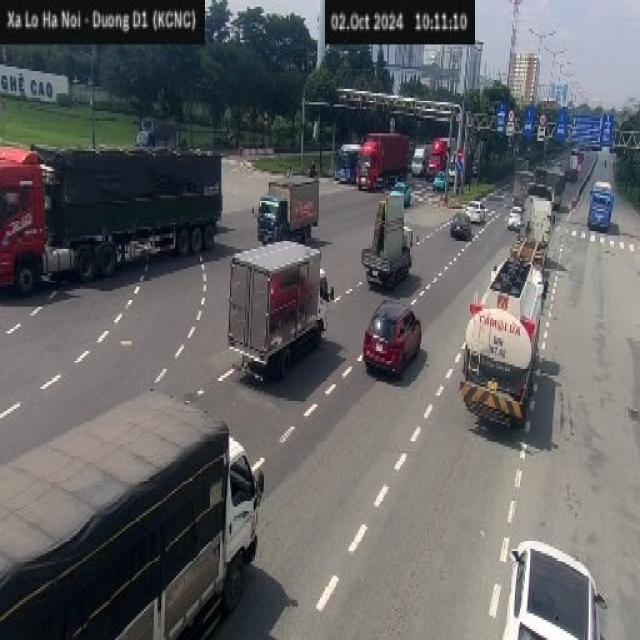car: (502, 538, 608, 638), (362, 298, 422, 378)
truck: (0, 387, 264, 638), (0, 142, 222, 295), (226, 238, 332, 382), (360, 191, 412, 289), (255, 173, 319, 244)
